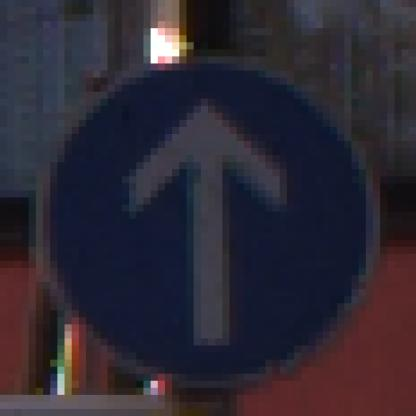AheadOnly: (37, 43, 381, 382)
